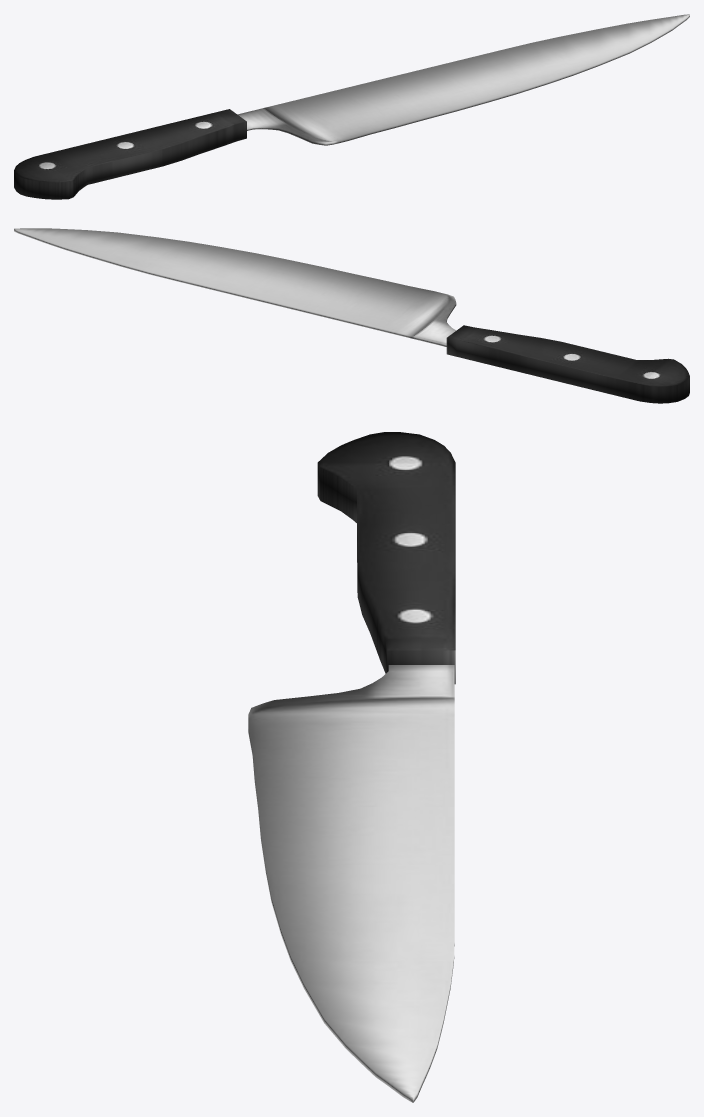
Rendered from Kitchenknife.fbx.
3 renders of one model, top to bottom at view 1: azimuth 30°, elevation 25°; view 2: azimuth 150°, elevation 25°; view 3: azimuth 270°, elevation 25°, orthographic. The views are drawn at different scales.
Parts seen in each view (by area): view 1: Blade, Handle; view 2: Blade, Handle; view 3: Blade, Handle.
Boxes of the visible parts, x1,y1,x2,y2 form: Blade: [237, 14, 689, 145]; Handle: [14, 109, 246, 199]; Blade: [14, 228, 456, 346]; Handle: [446, 325, 689, 403]; Blade: [248, 665, 454, 1102]; Handle: [317, 432, 455, 684].
Size of the model in its own units: 1.9 by 0.2556 by 0.0455.
